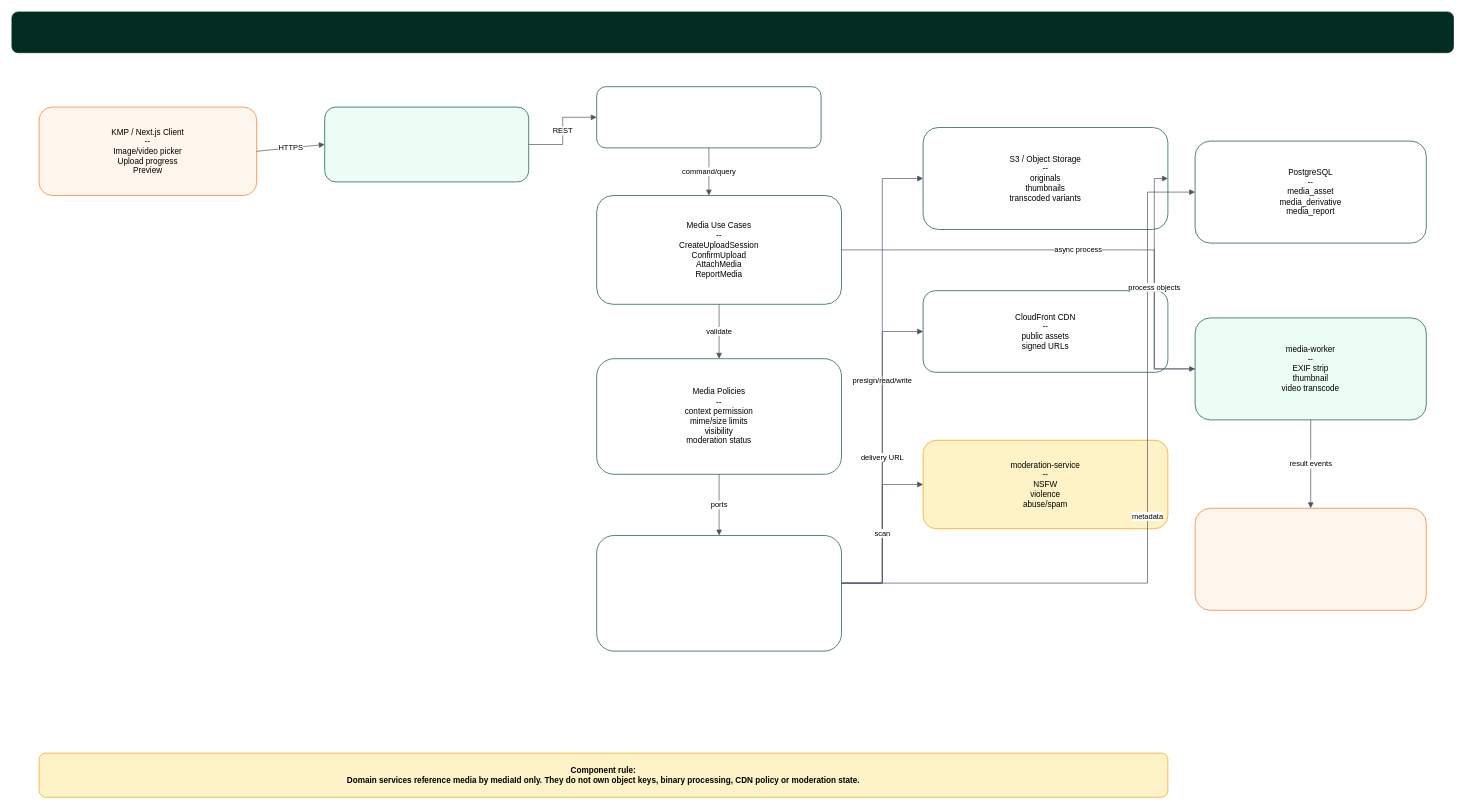
This 1465x809 diagram has some shape labels left out. The centre of each missing label's shape, as x and y in pixels:
"API Gateway / App BFF -- Media API facade" goes at [426,144].
"Kafka / Outbox -- MediaUploaded MediaApproved MediaRejected" goes at [1310,559].
"MediaController UploadSessionController" goes at [708,117].
"Ports ObjectStoragePort CdnUrlPort ModerationPort MediaRepo OutboxPort" goes at [719,593].
"Viaverse Media Upload / CDN / Moderation — Component Diagram" goes at [732,32].
